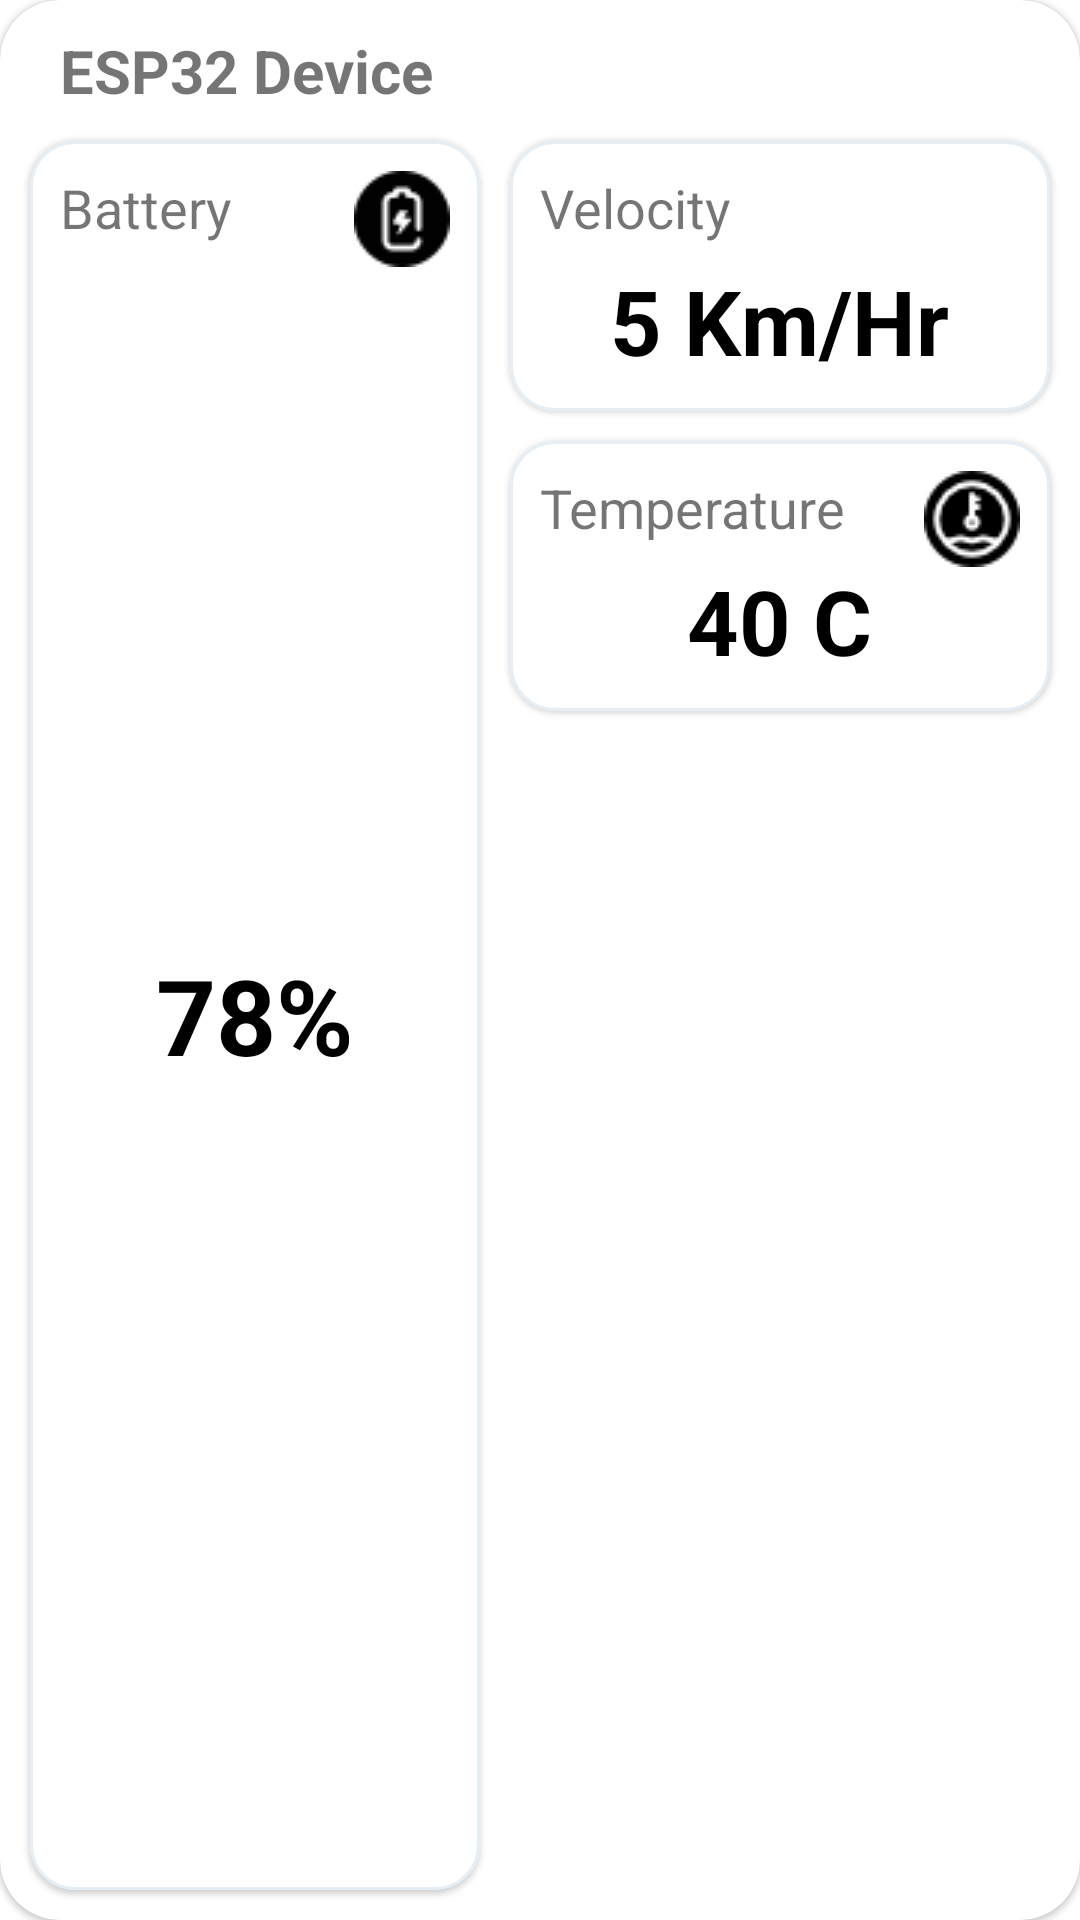

Screen size 1080px x 1920px. Icon name, then its center in pixels as (x,y):
charging: (402,219)
